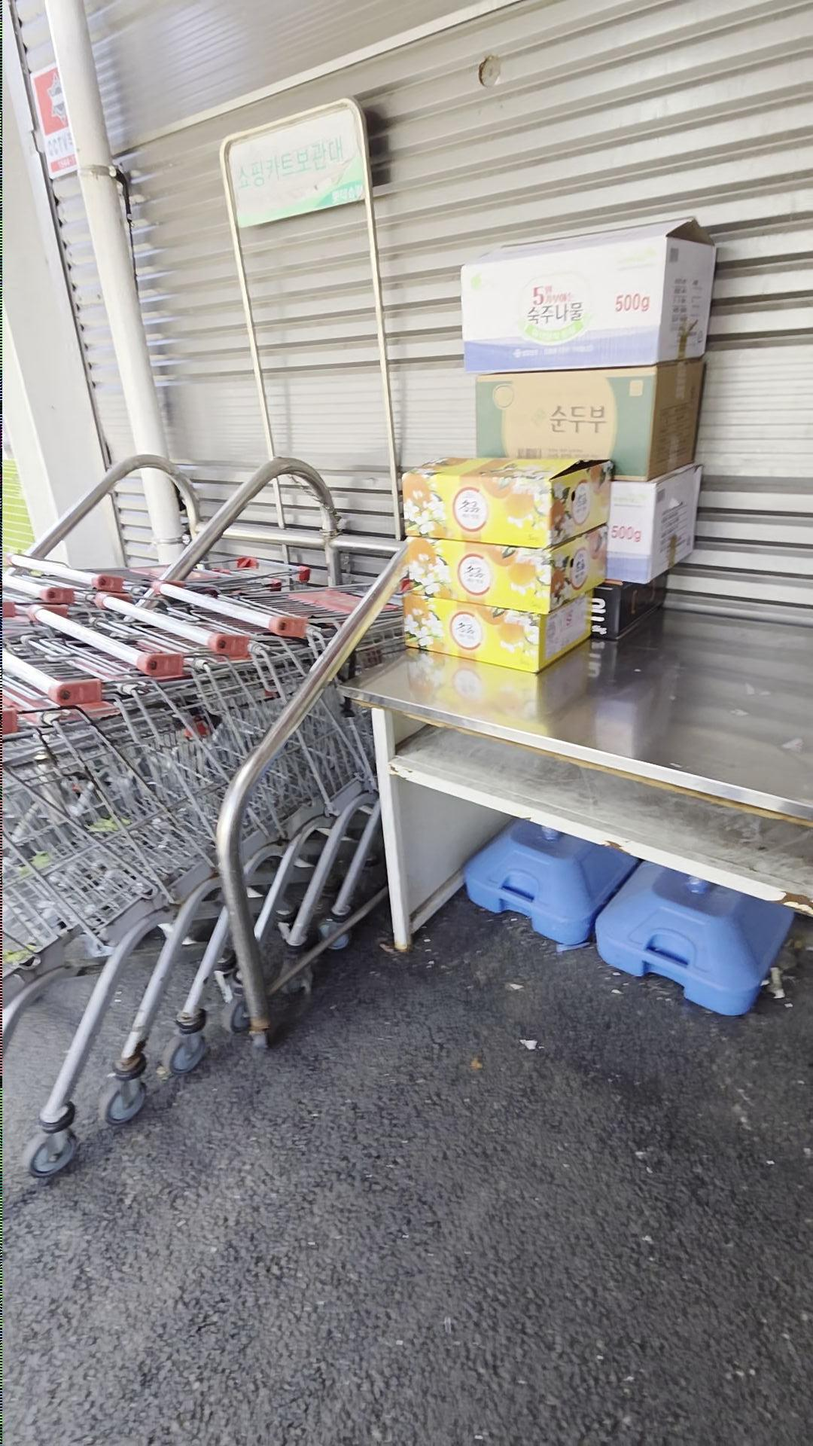combined_cart: (5, 546, 415, 1221)
